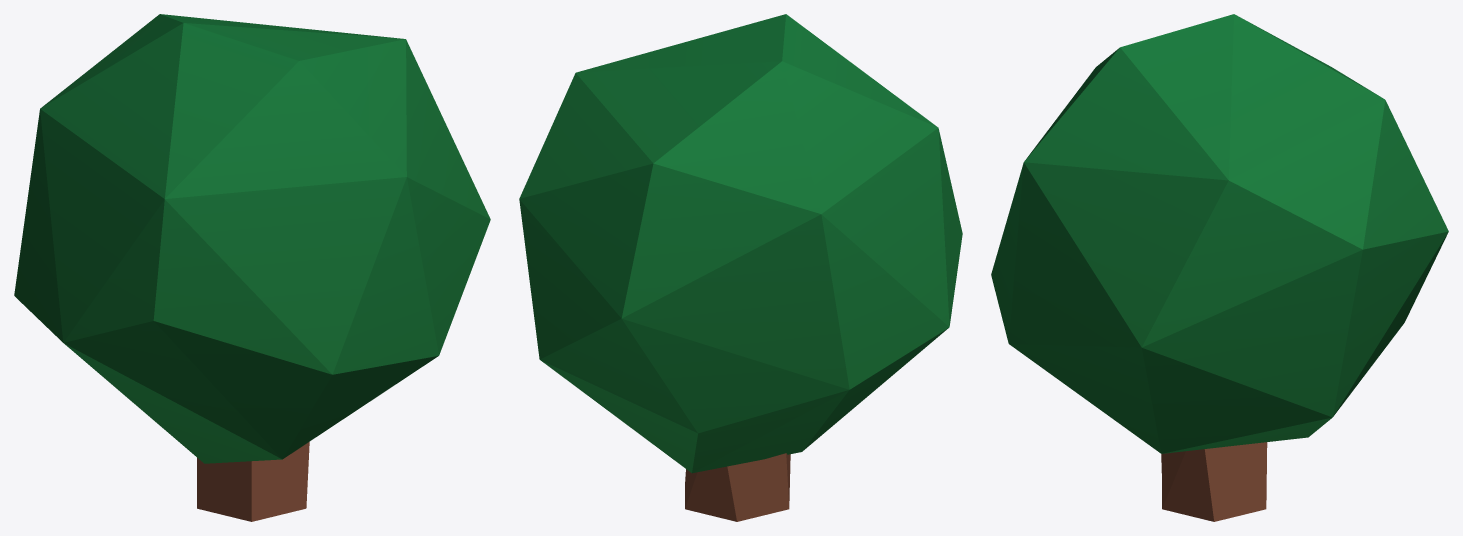
The model's file is Bush_3_gradient_green_vc.fbx.
3 renders of one model, left to right at view 1: azimuth 30°, elevation 25°; view 2: azimuth 150°, elevation 25°; view 3: azimuth 270°, elevation 25°, orthographic. The views are drawn at different scales.
Parts seen in each view (by area): view 1: Bush_3_gradient_green_vc; view 2: Bush_3_gradient_green_vc; view 3: Bush_3_gradient_green_vc.
Boxes of the visible parts, bbox=[...] form: Bush_3_gradient_green_vc: bbox=[14, 14, 490, 521]; Bush_3_gradient_green_vc: bbox=[519, 14, 962, 521]; Bush_3_gradient_green_vc: bbox=[991, 14, 1448, 521].
Size of the model in its own units: 35 by 39.36 by 35.84.
